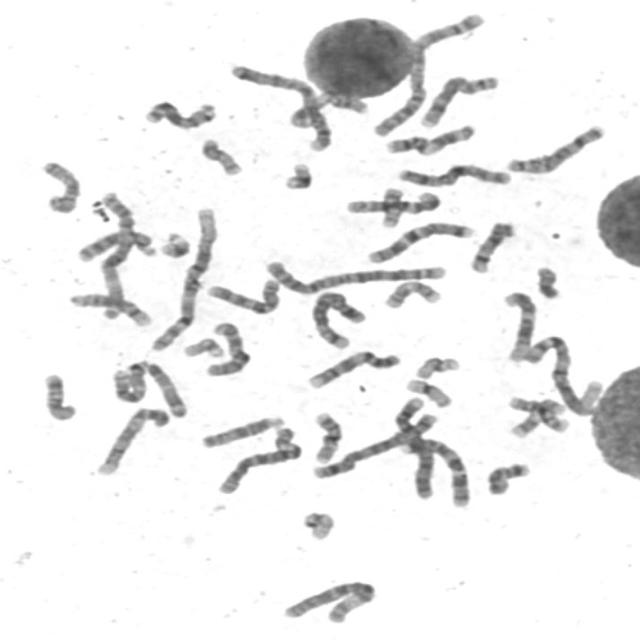A1: (145, 202, 222, 354), (520, 330, 606, 417)
A2: (366, 7, 488, 138), (259, 254, 448, 296)
A3: (93, 188, 139, 320), (107, 356, 191, 419)
B4: (224, 60, 336, 154), (387, 394, 440, 502)
B5: (308, 408, 443, 480), (306, 287, 369, 350)
C10: (202, 274, 283, 316), (201, 318, 253, 377)
C11: (379, 120, 478, 156), (284, 88, 370, 129)
C12: (498, 287, 540, 363), (342, 187, 444, 215)
C6: (212, 422, 304, 496), (276, 576, 379, 626)
C7: (394, 435, 473, 509), (362, 217, 478, 265)
C8: (501, 119, 609, 175), (415, 70, 502, 130)
C9: (92, 402, 173, 477), (302, 346, 405, 390)
D13: (72, 226, 160, 264), (139, 95, 219, 131)
D14: (65, 289, 155, 328), (465, 217, 518, 274)
D15: (195, 412, 288, 449), (35, 156, 84, 215)
E16: (505, 394, 575, 434), (308, 406, 347, 464)
E17: (504, 392, 571, 435), (378, 276, 444, 310)
E18: (37, 368, 79, 422), (481, 457, 534, 497)
F19: (400, 374, 455, 409), (411, 351, 463, 381)
F20: (195, 134, 246, 176), (375, 184, 407, 229)
G21: (156, 227, 194, 260), (278, 158, 316, 191)
G22: (296, 507, 339, 542), (178, 334, 226, 359)
X: (392, 160, 515, 188)
Y: (531, 262, 563, 300)
